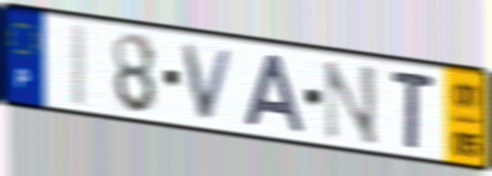8: (110, 30, 159, 116)
A: (240, 51, 308, 136)
I: (68, 20, 91, 111)
N: (321, 57, 381, 149)
T: (389, 67, 438, 154)
V: (179, 41, 239, 124)
